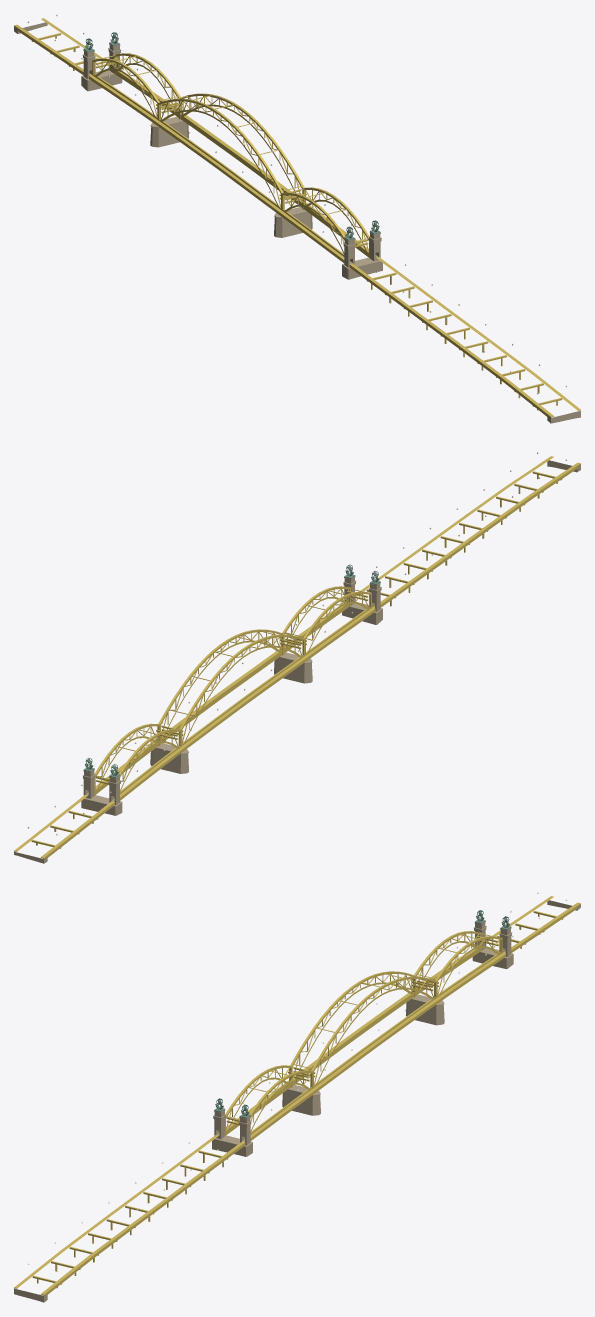
File: pit-16th-street-bridge.glb
3 views of the same model, one above another, from view 1: azimuth 30°, elevation 25°; view 2: azimuth 150°, elevation 25°; view 3: azimuth 330°, elevation 25° (orthographic).
Visible parts, largest first — view 1: 16th Street Bridge; view 2: 16th Street Bridge; view 3: 16th Street Bridge.
Part boxes in pixels (x1,y1,x2,y2): 16th Street Bridge: [14, 14, 580, 423]; 16th Street Bridge: [14, 452, 580, 863]; 16th Street Bridge: [14, 892, 580, 1302].
Bounding box in the file's own units: 23.2 × 45.2 × 582.
